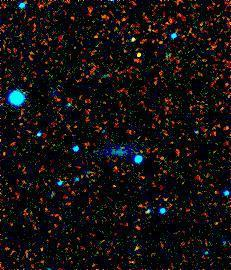star: (127, 35, 157, 65)
